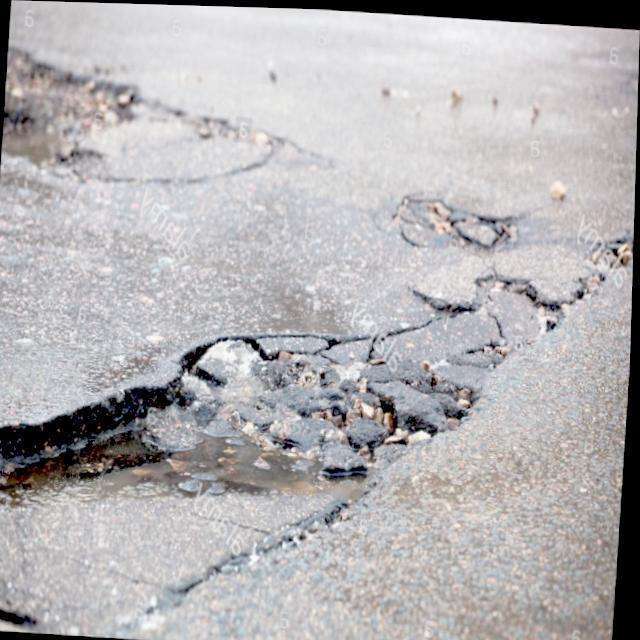Pothole: (0, 278, 559, 631), (2, 43, 141, 166), (389, 188, 545, 247)
